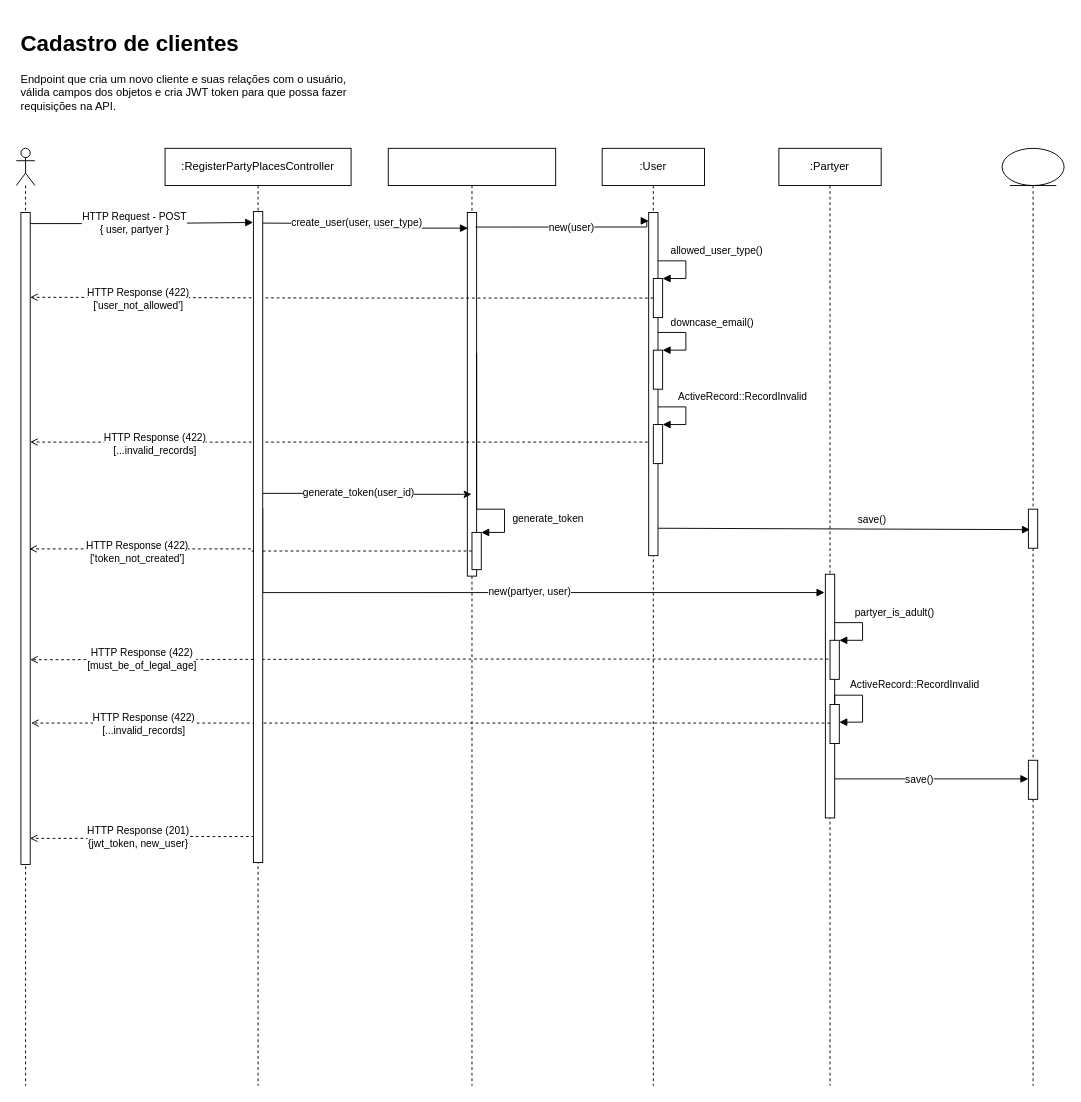
Image size: 1081x1102. Some labels were removed from this diagram. Here are the shapes that lost their labels. From the top down, the box of each, then its label:
(387, 147, 556, 1086): :RegistrationsController
(1001, 147, 1064, 1086): Data Base
